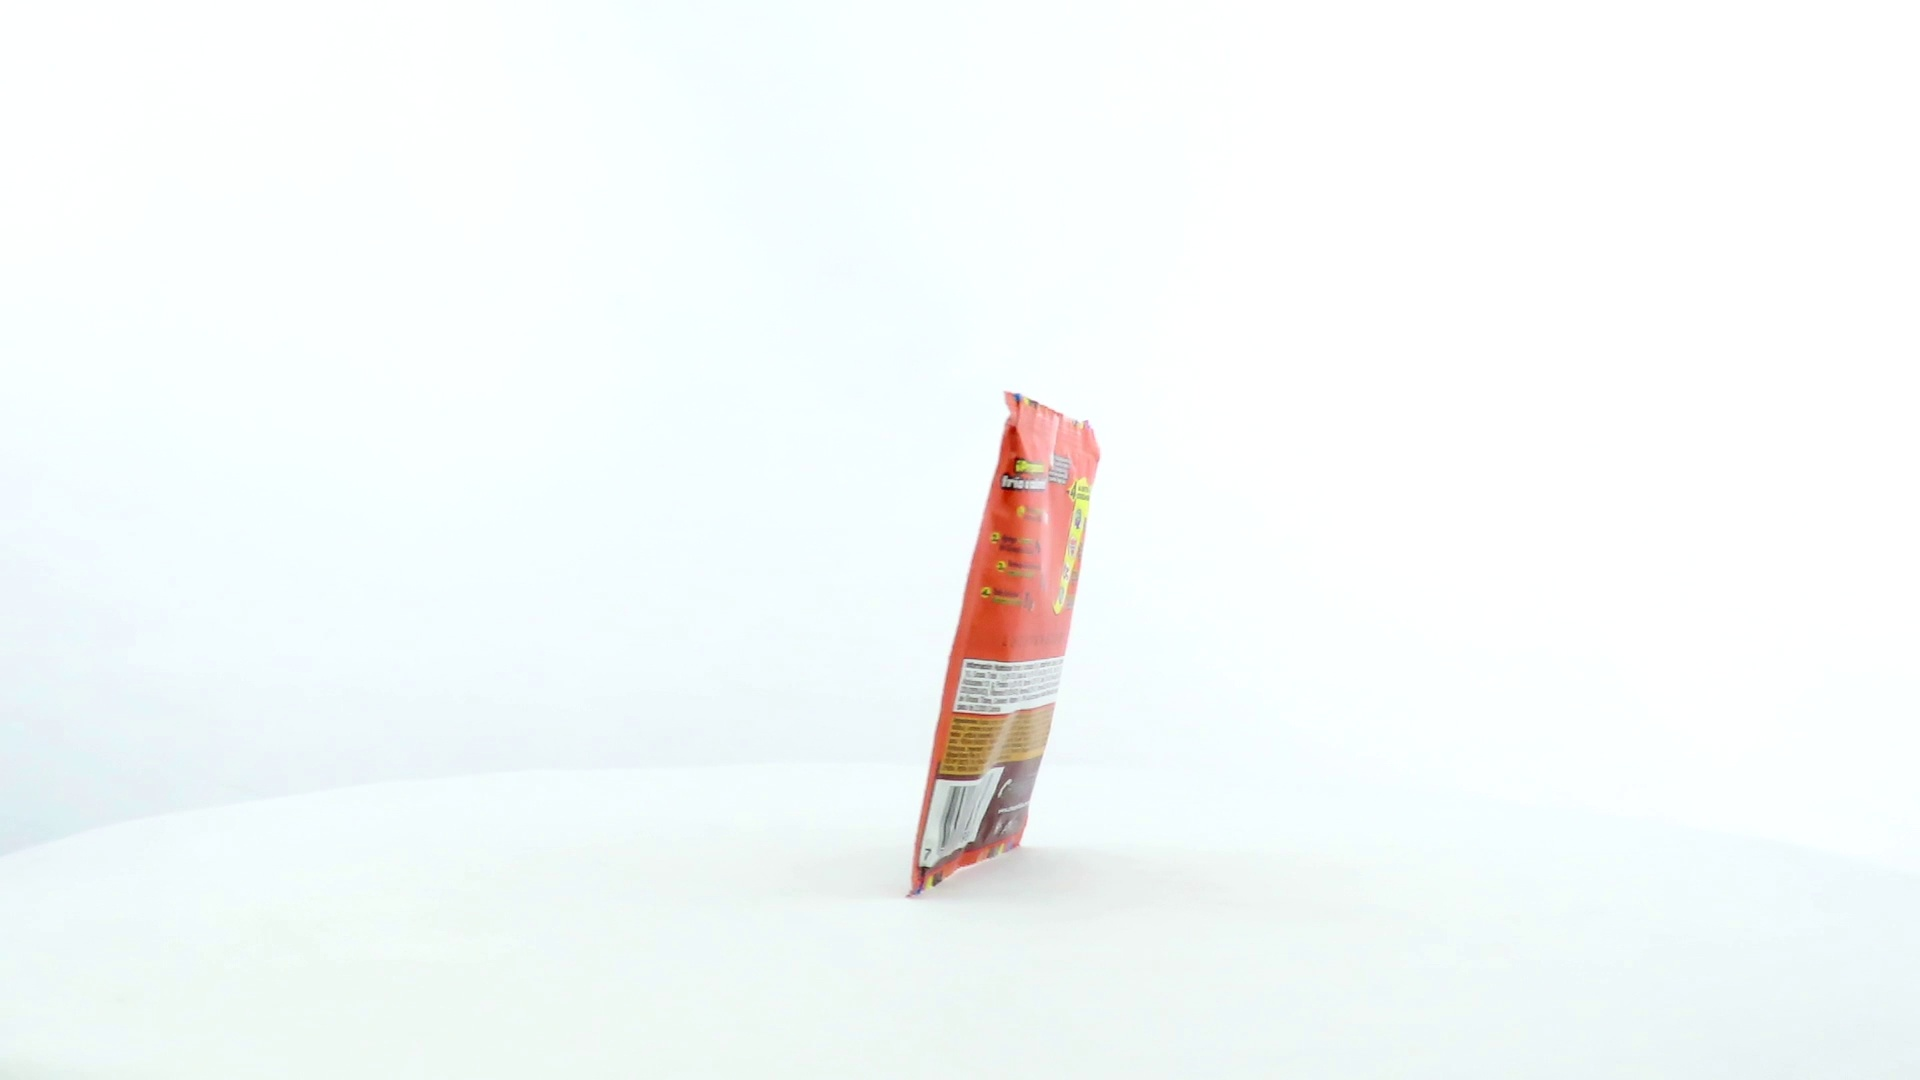COL0170103SOB02000: (894, 386, 1106, 905)
